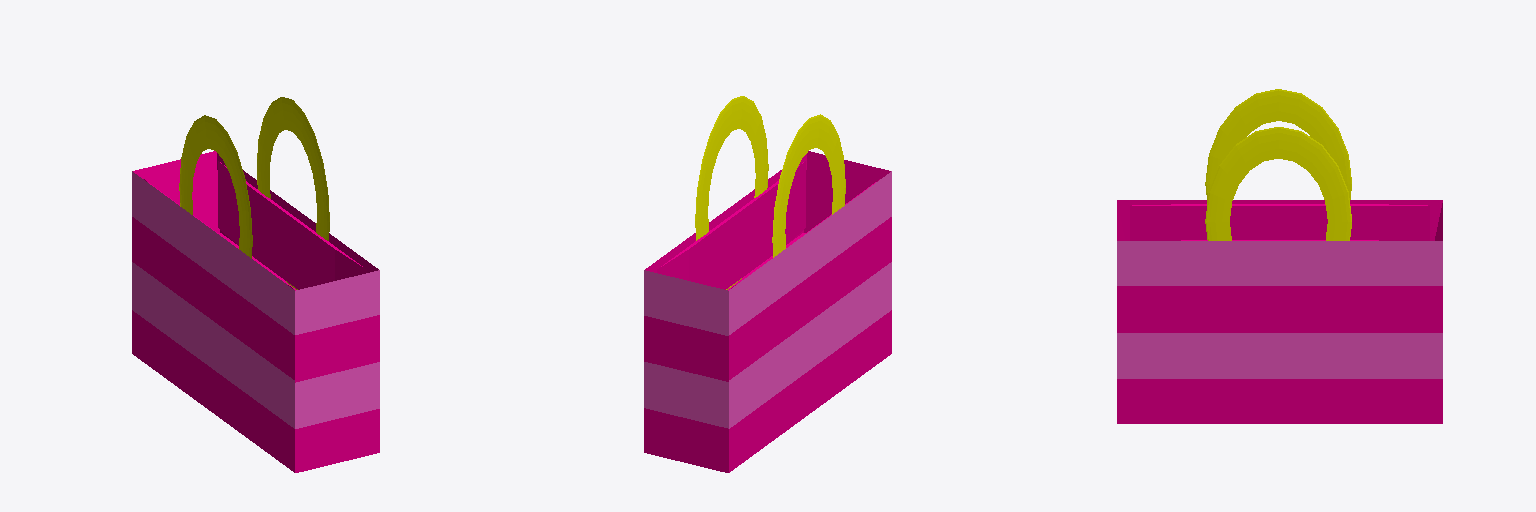
Rendered from beachbag.obj.
3 renders of one model, left to right at view 1: azimuth 30°, elevation 25°; view 2: azimuth 150°, elevation 25°; view 3: azimuth 270°, elevation 25°, orthographic.
Parts seen in each view (by area): view 1: polySurface1; view 2: polySurface1; view 3: polySurface1.
Part boxes in pixels (x1,y1,x2,y2): polySurface1: (132,97,379,472); polySurface1: (644,96,891,472); polySurface1: (1117,89,1442,423).
Size of the model in its own units: 2.36 by 7.88 by 7.9.